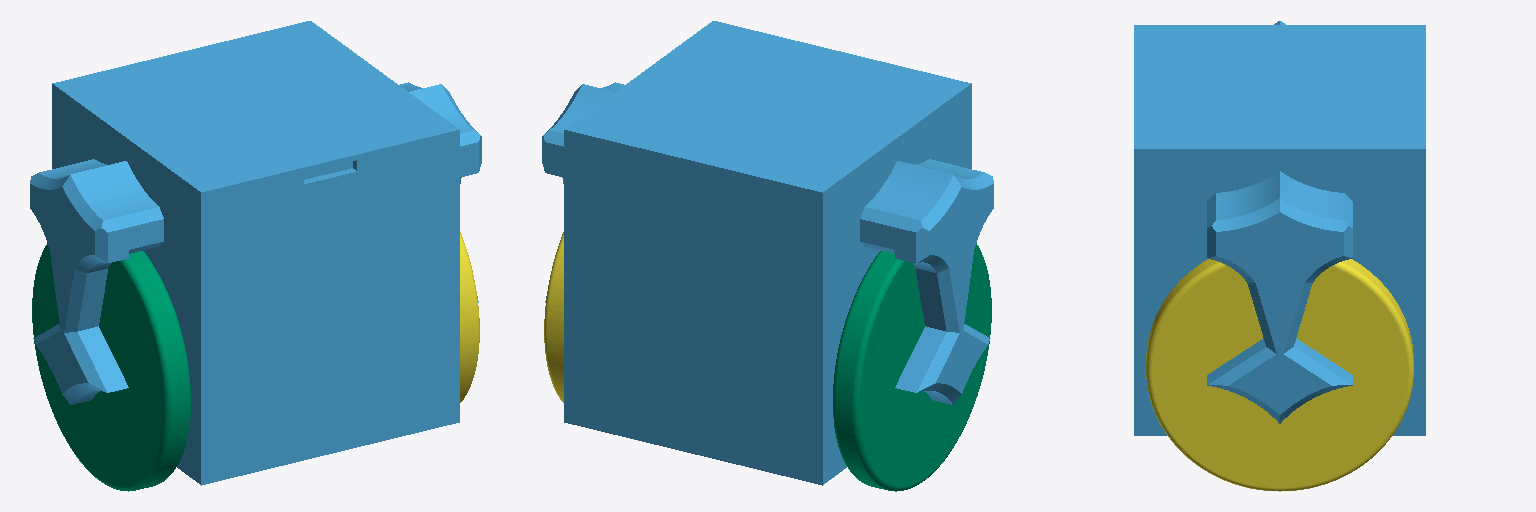
robot.urdf — SelfBalancingRobotv0.2:
<?xml version = "1.0" ?>
<robot name = "SelfBalancingRobotv0.2">
	<link name= "base_footprint">
		<visual>
			<origin xyz="0 0 0" rpy = "0 0 0"/>
			<geometry>
				<box size="0.001 0.001 0.001"/>
			</geometry>
		</visual>
	</link>

	<link name = "Chassis">
		<visual>
			<origin rpy="0 0 0" xyz = "0 0 0"/>
			<geometry>
				<mesh filename="package://robot_model_1/meshes/robot_Chassis_3.stl"/>
			</geometry>
		</visual>
		<collision>
			<origin rpy="0 0 0" xyz = "0 0 0"/>
			<geometry>
				<mesh filename="package://robot_model_1/meshes/robot_Chassis_3.stl"/>
			</geometry>
		</collision>
		<inertial>
			<origin xyz = "0 0 0" rpy = "0 0 0"/>
			<mass value = "28.426"/>
			<inertia iyy = "3.441" izz = "3.0004" ixx = "2.529" ixy ="0.0" ixz = "0.0" iyz = "0.000"/>
		</inertial>
	</link> 
	<joint name="base_link_joint" type="fixed">
		<parent link="base_footprint"/>
		<child link="Chassis"/>
	</joint>



	<link name="right_wheel">
		<visual>
			<origin xyz = "0.329 -0.007 0.142" rpy = "0 0 0"/>
			<geometry>
				<mesh filename="package://robot_model_1/meshes/robot_Wheel_1.stl"/>
			</geometry>
		</visual>
		<collision>
			<origin xyz = "0.329 -0.007 0.142" rpy = "0 0 0"/>
			<geometry>
				<mesh filename="package://robot_model_1/meshes/robot_Wheel_1.stl"/>
			</geometry>
		</collision>
		<inertial>
			<origin xyz = "-0.037 -0.007 0" />
			<mass value = "5.449"/>
			<inertia iyy = "0.109" izz = "0.109" ixx = "0.214" ixy ="0.0" ixz = "0.0" iyz = "0.0"/>
		</inertial>
	</link>

	 <joint name="right_wheel_joint" type = "continuous">
		<parent link="Chassis"/>
		<child link = "right_wheel"/>
		<origin xyz = "-0.314 0.007  -0.142" rpy = "0 0 0"/>
		<limit effort = "10000" velocity = "10000"/>
		<axis xyz = "1 0 0"/>
	</joint> 



	<link name="left_wheel">
		<visual>
			<origin xyz = "-0.329 -0.007 0.142" rpy = "0 0 0"/>
			<geometry>
				<mesh filename="package://robot_model_1/meshes/robot_Wheel_2.stl"/>
			</geometry>
		</visual>
		<collision>
			<origin xyz = "-0.329 -0.007 0.142" rpy = "0 0 0"/>
			<geometry>
				<mesh filename="package://robot_model_1/meshes/robot_Wheel_2.stl"/>
			</geometry>
		</collision>
		<inertial>
			<origin xyz = "0.037 -0.007 0"/>
			<mass value = "5.449"/>
			<inertia iyy = "0.109" izz = "0.109" ixx = "0.214" ixy ="0.0" ixz = "0.0" iyz = "0.0"/>
		</inertial>
	</link>

	 <joint name="left_wheel_joint" type = "continuous">
		<parent link="Chassis"/>
		<child link = "left_wheel"/>
		<origin xyz = "0.314 0.007 -0.142" rpy = "0 0 0"/>
		<axis xyz = "1 0 0"/>
	
	</joint> 
	
	<gazebo>
		<selfCollide>true</selfCollide>
	</gazebo>
	<gazebo reference ="left_wheel">
		<mu1>0.90</mu1>
		<mu2>0.65</mu2>

	</gazebo>
	<gazebo reference ="right_wheel">
		<mu1>0.90</mu1>
		<mu2>0.65</mu2>

	</gazebo>
	<gazebo>
		<plugin name="differential_drive_controller" filename="libgazebo_ros_diff_drive.so">
			<alwaysOn>true</alwaysOn>
			<legacyMode>false</legacyMode>
			<updateRate>200</updateRate>
			<leftJoint> left_wheel_joint</leftJoint>
			<rightJoint>right_wheel_joint</rightJoint>
			<wheelSeparation>0.630</wheelSeparation>
			<wheelDiameter>0.559</wheelDiameter>
			<wheelTorque>10</wheelTorque>
			<commandTopic>cmd_vel</commandTopic>
    		<odometryTopic>odom</odometryTopic>
    		<odometryFrame>odom</odometryFrame>
    		<robotBaseFrame>base_footprint</robotBaseFrame>
		</plugin>
	</gazebo>	
	<gazebo reference="Chassis">
		<gravity>true</gravity>
		<sensor name="imu_sensor" type="imu">
		  <always_on>true</always_on>
		  <update_rate>200</update_rate>
		  <visualize>true</visualize>
		  <topic>__default_topic__</topic>
		  <plugin filename="libgazebo_ros_imu_sensor.so" name="imu_plugin">
		    <topicName>imu</topicName>
		    <bodyName>base_footprint</bodyName>
		    <updateRateHZ>10.0</updateRateHZ>
		    <gaussianNoise>0.0</gaussianNoise>
		    <xyzOffset>0 0 0</xyzOffset>
		    <rpyOffset>0 0 0</rpyOffset>
		    <frameName>Chassis</frameName>
		  </plugin>
		  <pose>0 0 0 0 0 0</pose>
		</sensor>
	</gazebo>
	
</robot>

--- What the picture shows (computed from the rendered views, not written in the file) ---
Views: 3 orthographic renders of the robot side by side, from view 1: azimuth 30°, elevation 25°; view 2: azimuth 150°, elevation 25°; view 3: azimuth 270°, elevation 25°.
Robot: SelfBalancingRobotv0.2 — 4 links, 3 joints (2 continuous, 1 fixed); root link base_footprint; default pose: every joint at zero.
Visible links, largest first — view 1: Chassis, right_wheel, left_wheel; view 2: Chassis, right_wheel, left_wheel; view 3: Chassis, left_wheel.
Boxes of the visible links, x1,y1,x2,y2 form: Chassis: [30, 21, 481, 485]; right_wheel: [32, 243, 190, 491]; left_wheel: [460, 232, 479, 402]; Chassis: [542, 21, 993, 485]; right_wheel: [833, 243, 991, 491]; left_wheel: [544, 232, 563, 402]; Chassis: [1134, 21, 1425, 435]; left_wheel: [1146, 259, 1413, 491].
Size in the robot's own frame: 0.9144 by 0.6096 by 0.762 metres.
3 mesh visuals loaded from 3 distinct referenced files (3 binary STL).